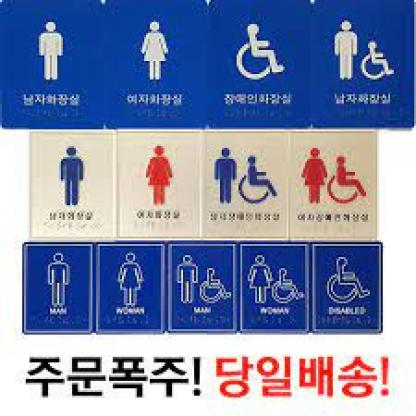toilet: (329, 16, 399, 90), (212, 142, 279, 207), (303, 144, 368, 207), (236, 17, 286, 84), (178, 252, 233, 308), (248, 253, 306, 306), (325, 254, 374, 307), (142, 141, 177, 205), (37, 16, 69, 85), (57, 144, 89, 207), (140, 19, 171, 81), (118, 252, 144, 306), (46, 254, 70, 308)
